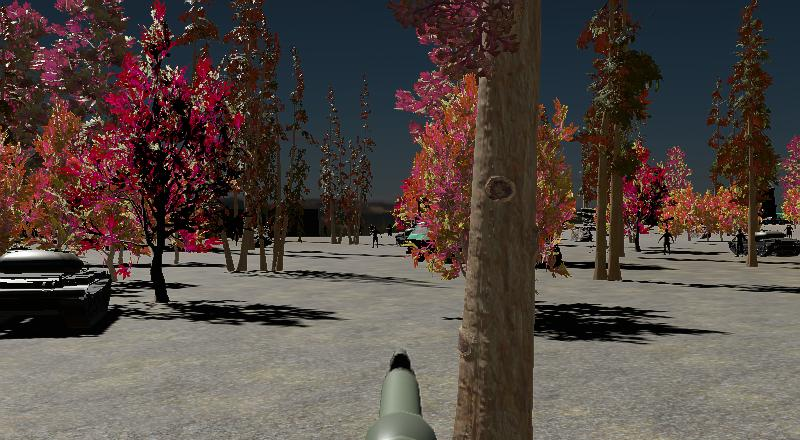Tank: (0, 230, 112, 338), (728, 227, 800, 258)
